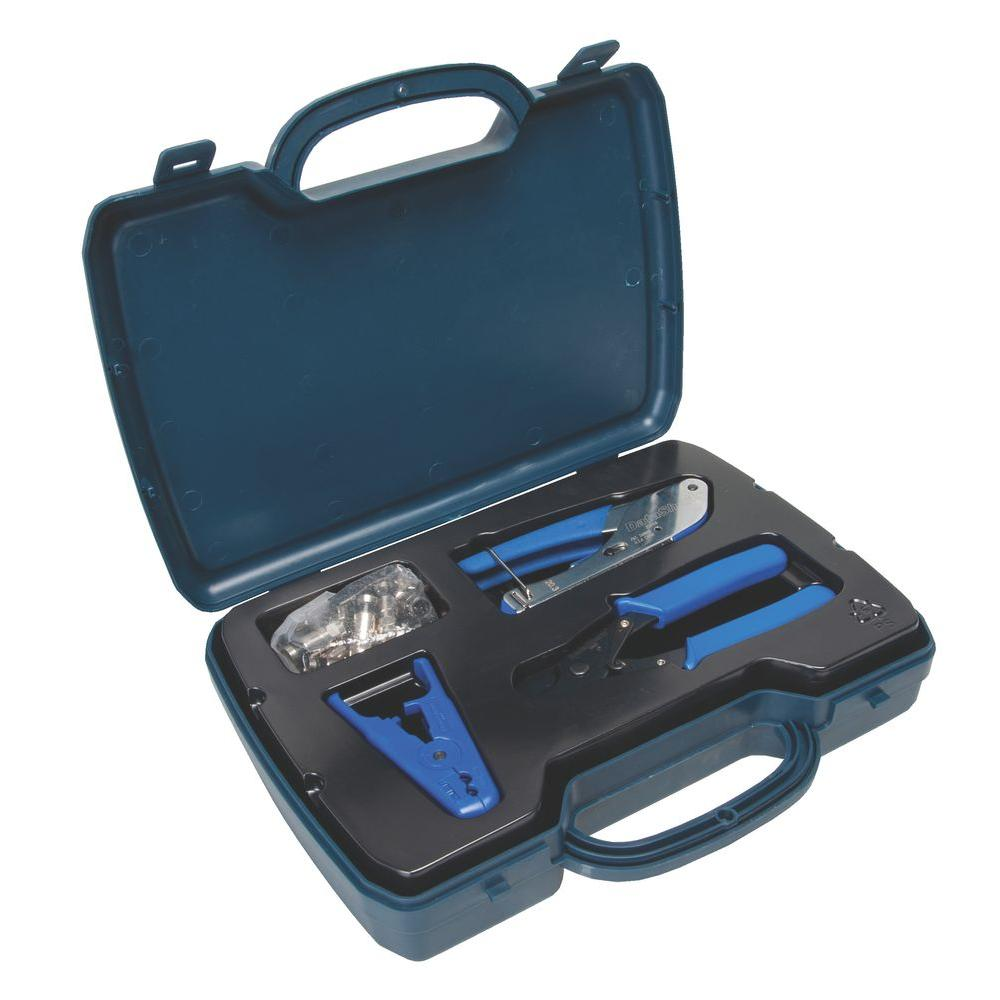Nonrec_Tangler: (67, 40, 954, 925)
